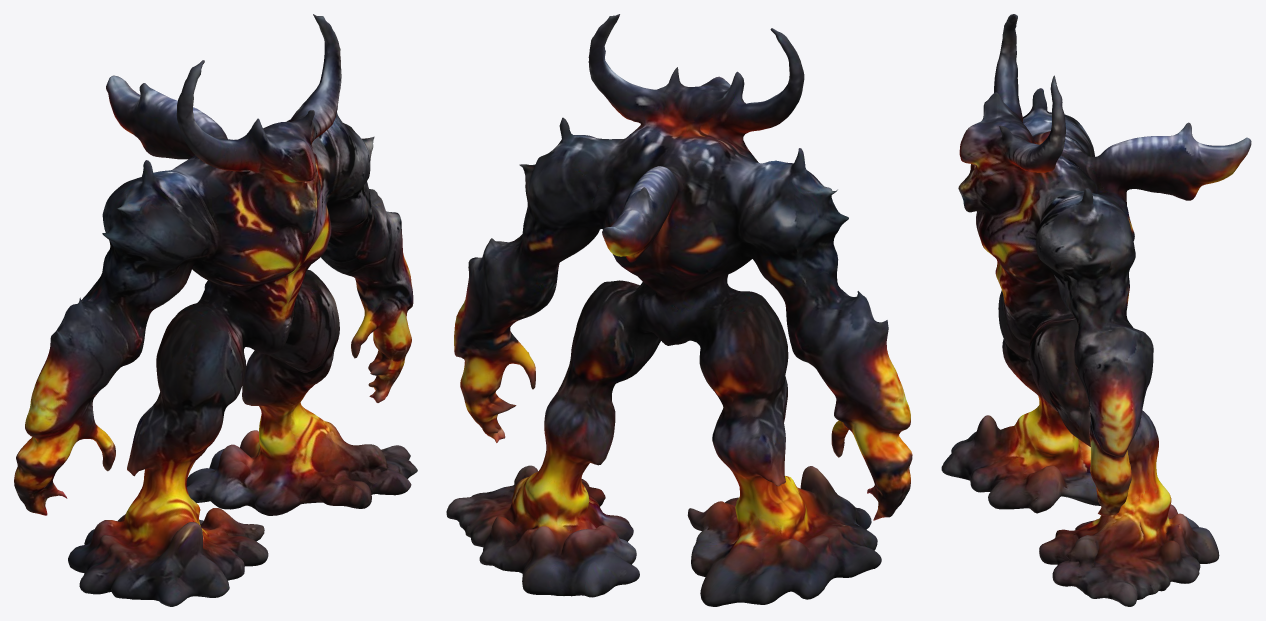
The model's file is inferno.glb.
3 renders of one model, left to right at view 1: azimuth 30°, elevation 25°; view 2: azimuth 150°, elevation 25°; view 3: azimuth 270°, elevation 25°, orthographic. The views are drawn at different scales.
Parts seen in each view (by area): view 1: char; view 2: char; view 3: char.
Part boxes in pixels (x1=…): char: x1=14, y1=14, x2=417, y2=606; char: x1=446, y1=14, x2=912, y2=606; char: x1=941, y1=14, x2=1251, y2=606.
Bounding box in the file's own units: 2.23 × 2.62 × 1.5.
Materials: 1 (1 with a texture image).
